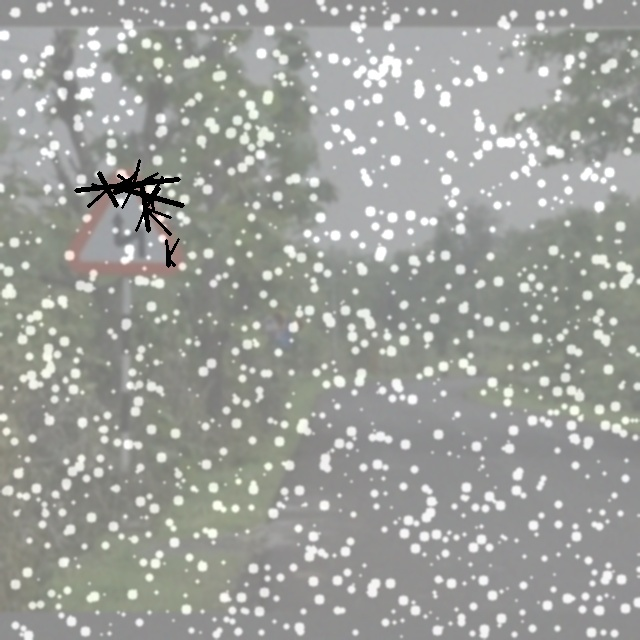Left_Reverse_Bend: (72, 170, 182, 277)
